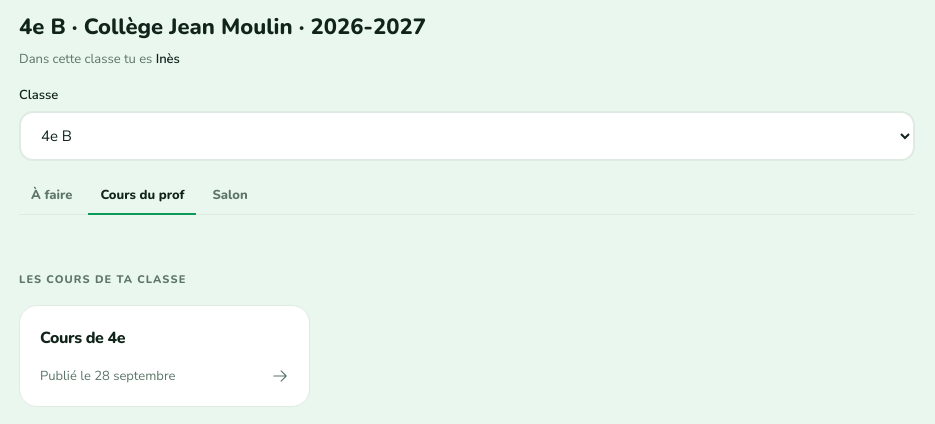
Test case: EspaceClasse › changing class changes the courses of the open tab
Expected: the text "Cours de 4e" is shown, top-left (40, 327), bottom-right (125, 349)
Expected: the text "Cours de 3e" is not shown
Select "3e A" in the dropdown labelled "Classe" at [467, 136], box top-left (19, 111), bottom-right (915, 161)
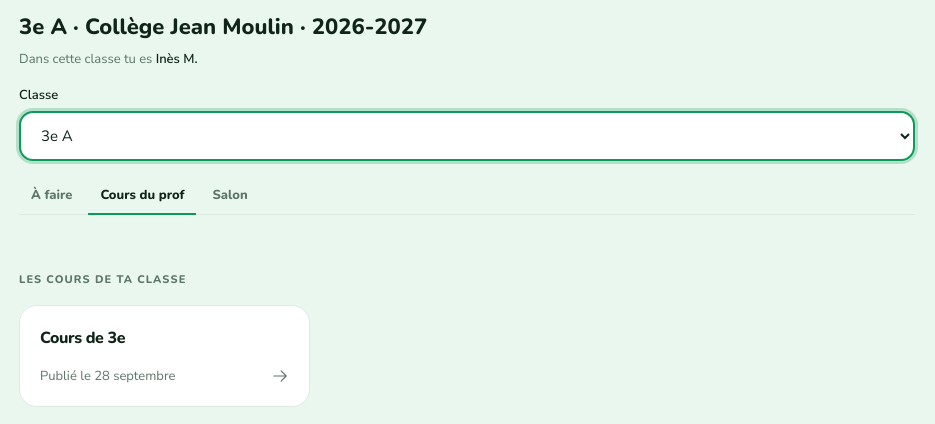
Expected: the text "Cours de 3e" is shown, top-left (40, 327), bottom-right (125, 349)
Expected: the link "Cours de 4e" is gone
Expected: the text "Inès M." is shown, top-left (156, 50), bottom-right (198, 68)
